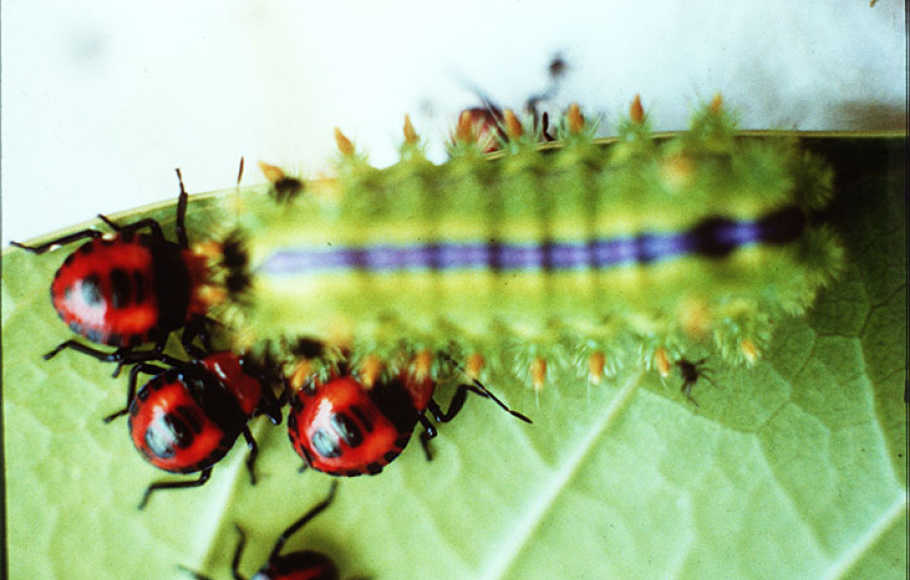Pest! (nettle_caterpillar): (219, 154, 849, 365)
